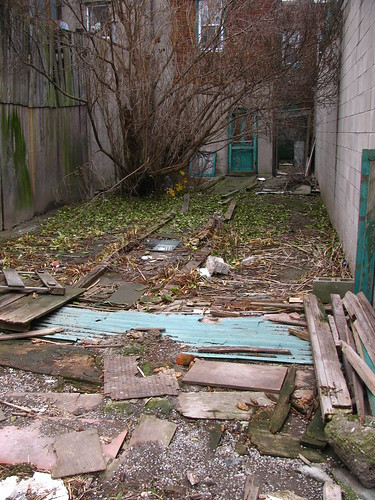trash: (1, 177, 375, 500)
tree: (26, 1, 309, 219)
